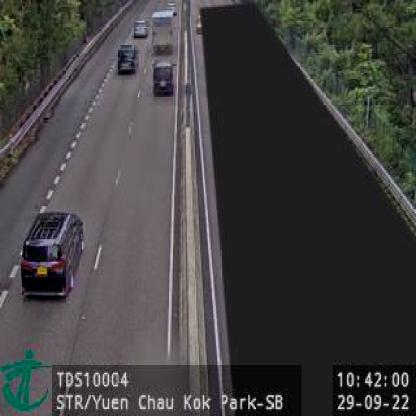Car: (18, 206, 85, 300), (112, 43, 138, 76), (153, 57, 173, 97), (133, 16, 147, 36)
Truck: (151, 9, 175, 56)
